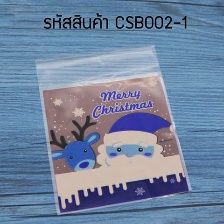snack: (27, 39, 196, 219)
